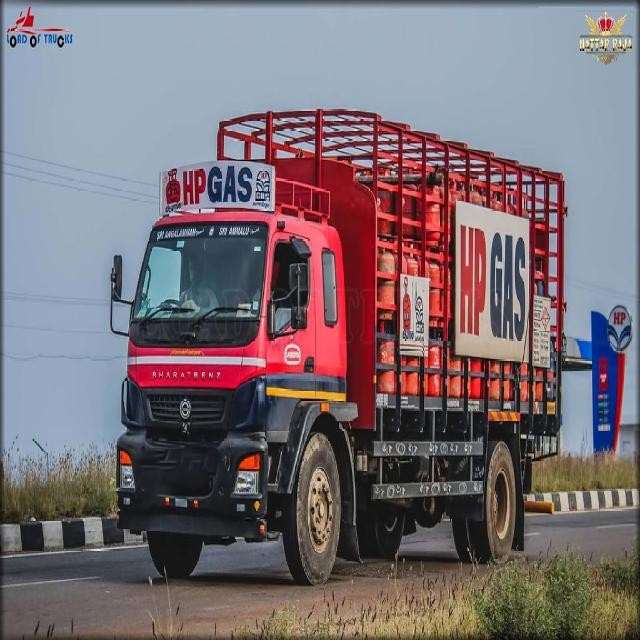truck: (109, 98, 566, 579)
